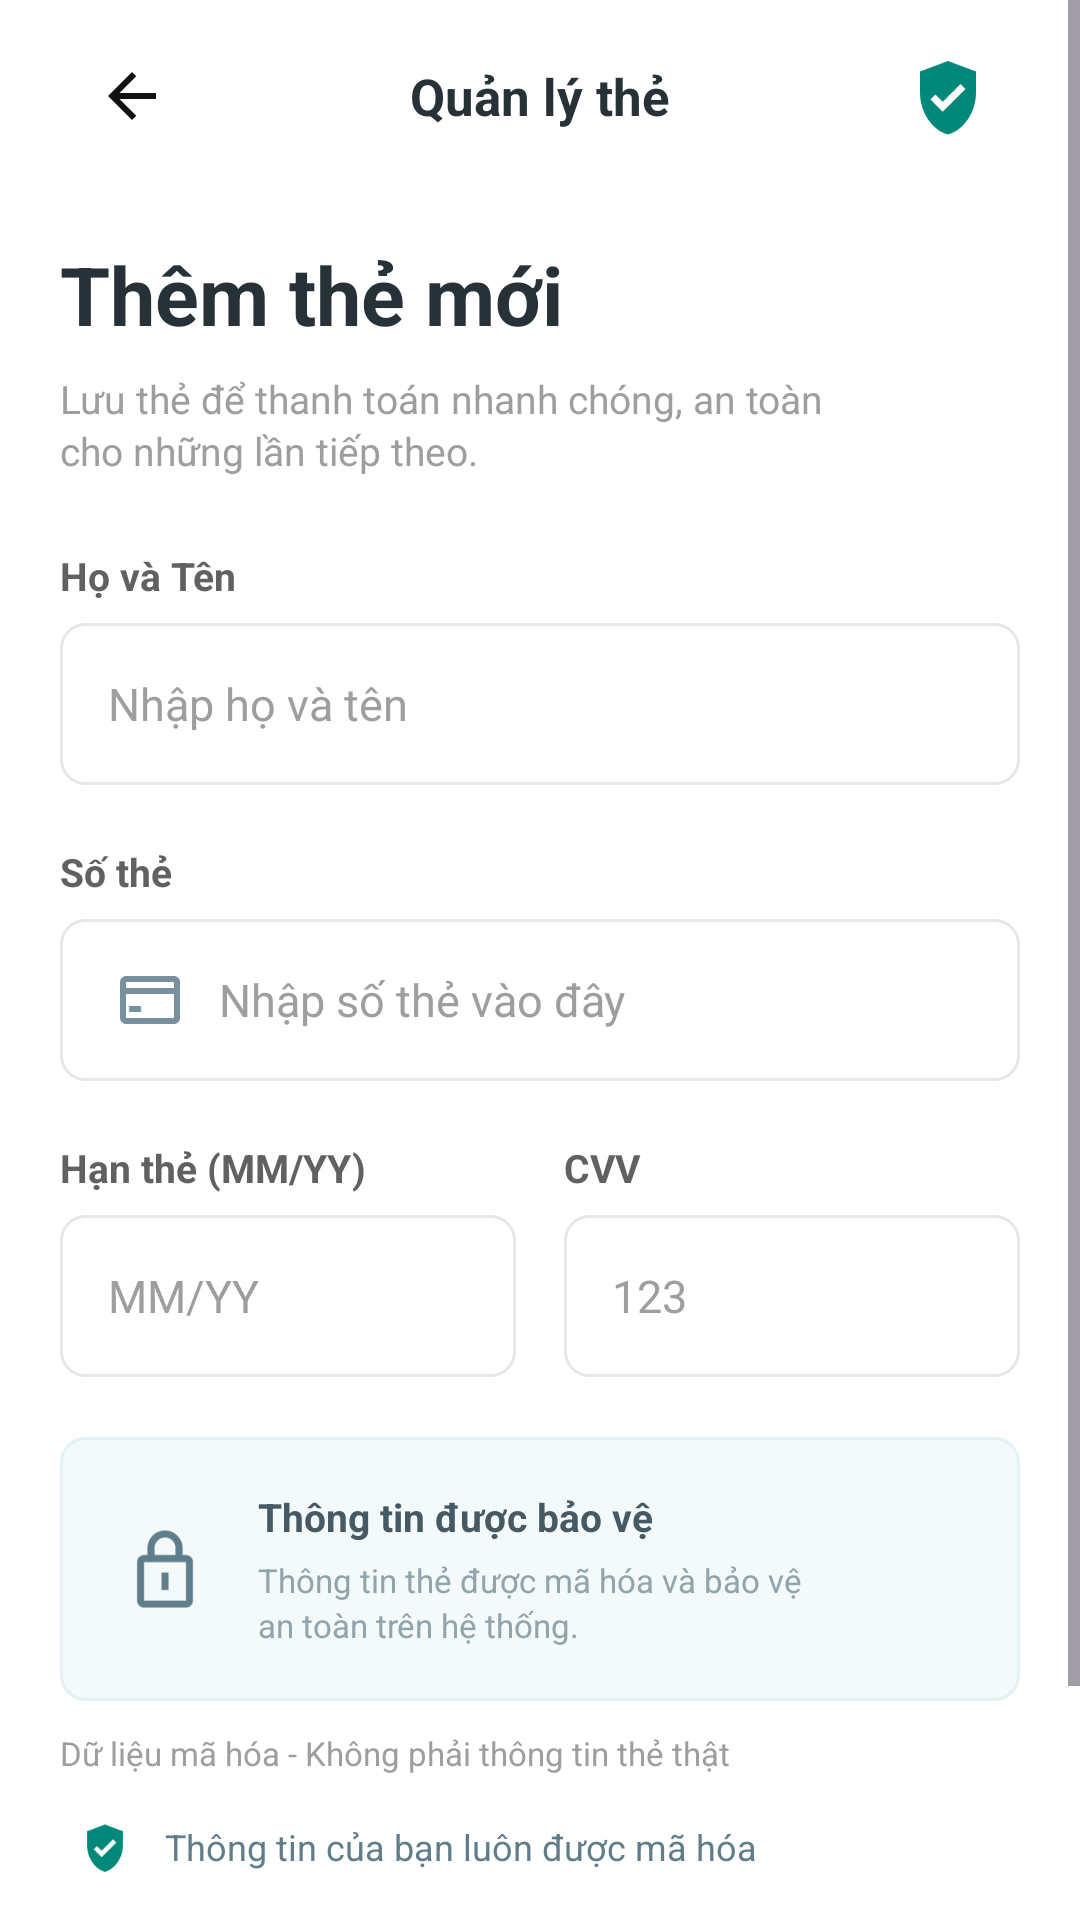

Icons on this 1080 × 1920 Android screen, each with the point to tap as [x,y]:
Bảo mật: [948,98], [105,1848]
Quay lại: [132,96]
Thẻ ngân hàng: [150,1000]
